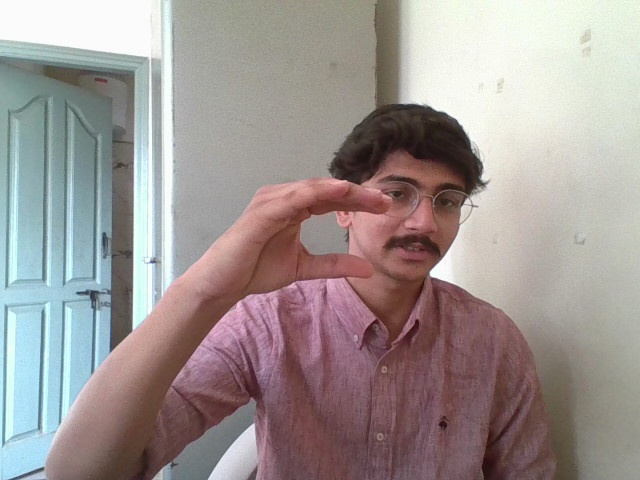no: (138, 164, 402, 308)
